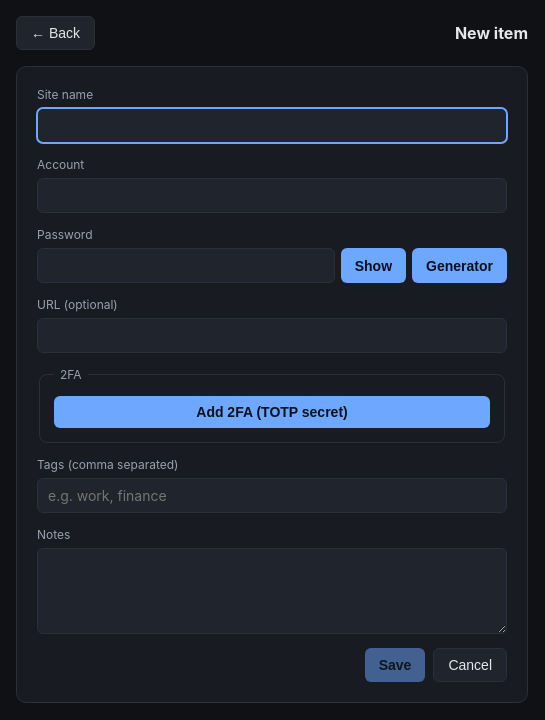
Test: ItemDetail — new item › shows the new-item heading and keeps save disabled until a site name
Expected: the heading "New item" is shown, [455,23,528,43]
Expected: the button "Save" is disabled, [365,648,425,682]
Type "Example" into the field labelled "Site name" at coordinates (272, 126), box [37,108,507,143]
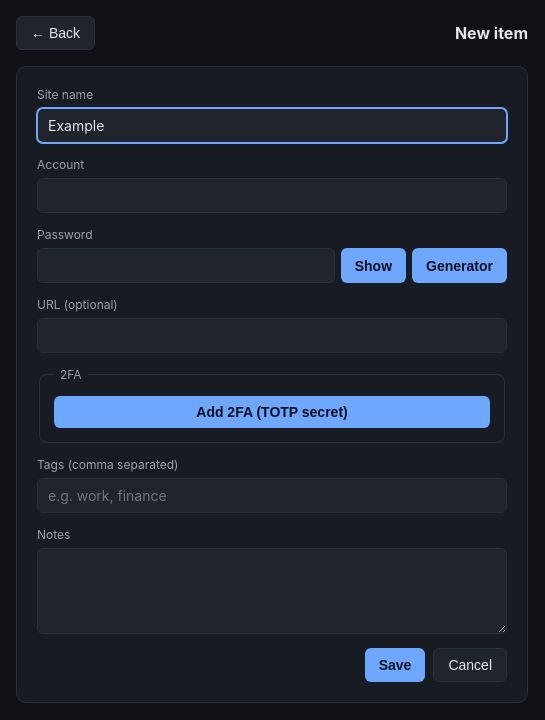
Now the button "Save" is enabled, box [365,648,425,682]
